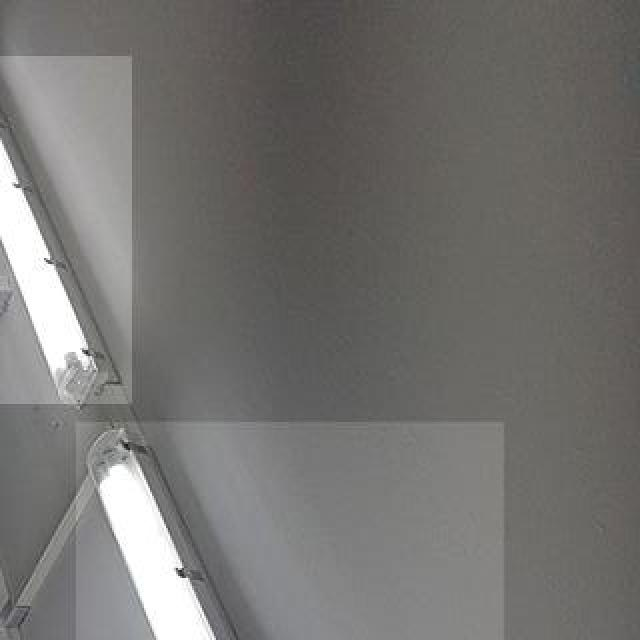fluorescent tube: (68, 436, 504, 640), (0, 62, 110, 400), (0, 556, 10, 640)
